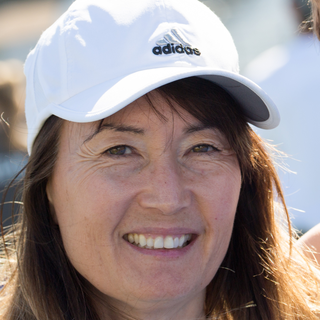eye: (96, 139, 144, 164), (181, 139, 227, 163)
